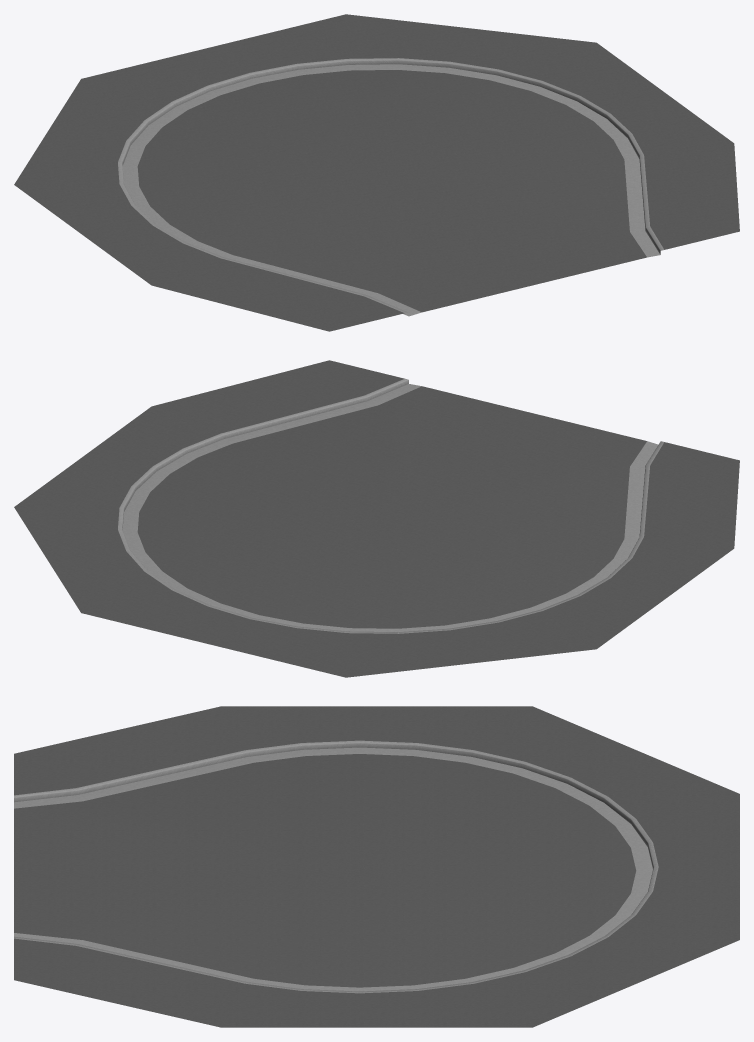
The model's file is DeadEnd.glb.
3 renders of one model, top to bottom at view 1: azimuth 30°, elevation 25°; view 2: azimuth 150°, elevation 25°; view 3: azimuth 270°, elevation 25°, orthographic. The views are drawn at different scales.
Parts seen in each view (by area): view 1: DeadEnd; view 2: DeadEnd; view 3: DeadEnd.
Part boxes in pixels (x1,y1,x2,y2): DeadEnd: [14, 14, 739, 331]; DeadEnd: [14, 360, 739, 677]; DeadEnd: [14, 706, 739, 1027].
Size of the model in its own units: 22 by 0.15 by 21.
3 materials, 3 textured.
